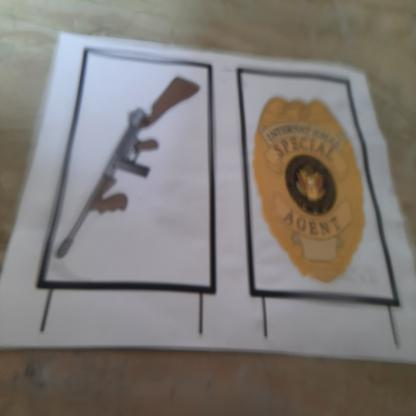Bootlegger: (56, 78, 208, 261)
G-man: (249, 93, 371, 292)
